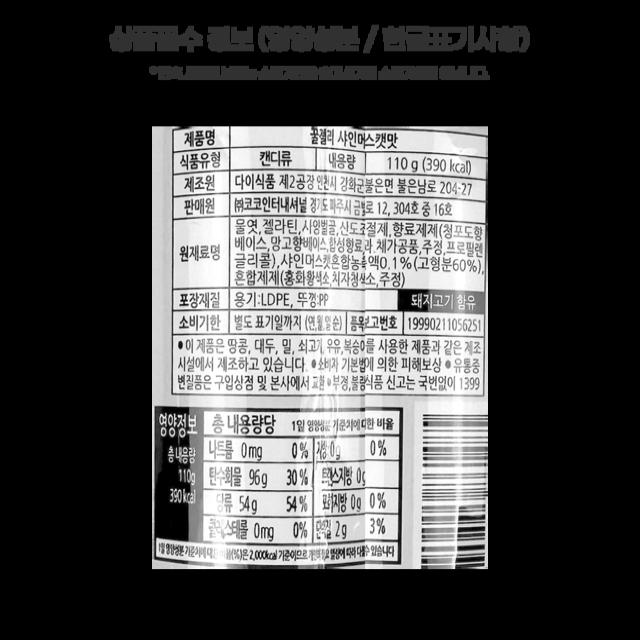Nutrition Label: (138, 392, 408, 574)
